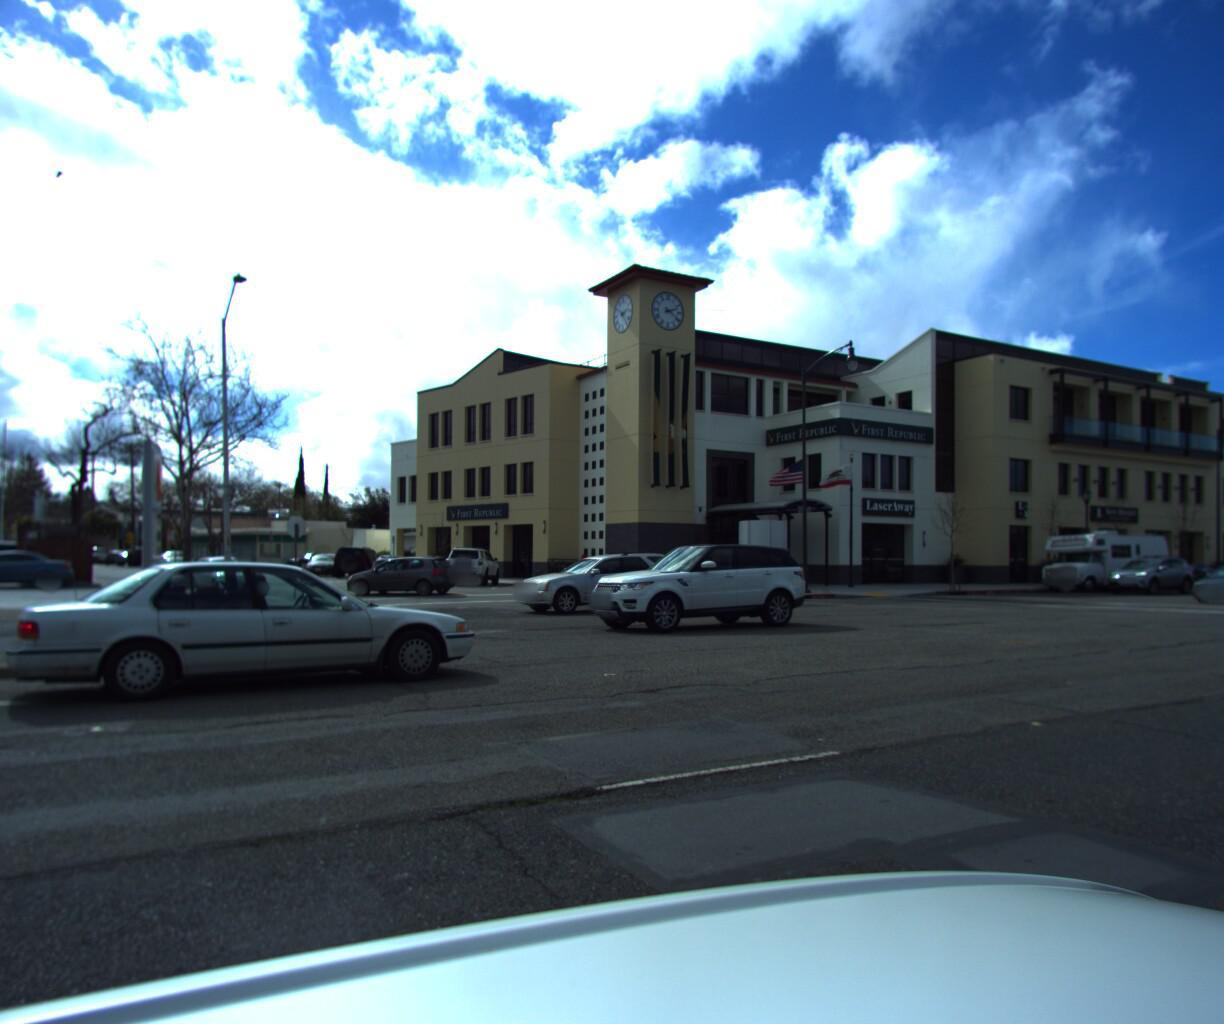car: (5, 562, 495, 726), (579, 543, 810, 641), (512, 552, 685, 622), (339, 560, 464, 603), (1096, 557, 1195, 598), (0, 558, 82, 598), (184, 561, 268, 597), (443, 551, 502, 593), (331, 549, 387, 586), (1180, 561, 1224, 608), (0, 544, 30, 594), (367, 560, 420, 588), (301, 558, 355, 583)
other_vehicle: (1024, 528, 1171, 598)
